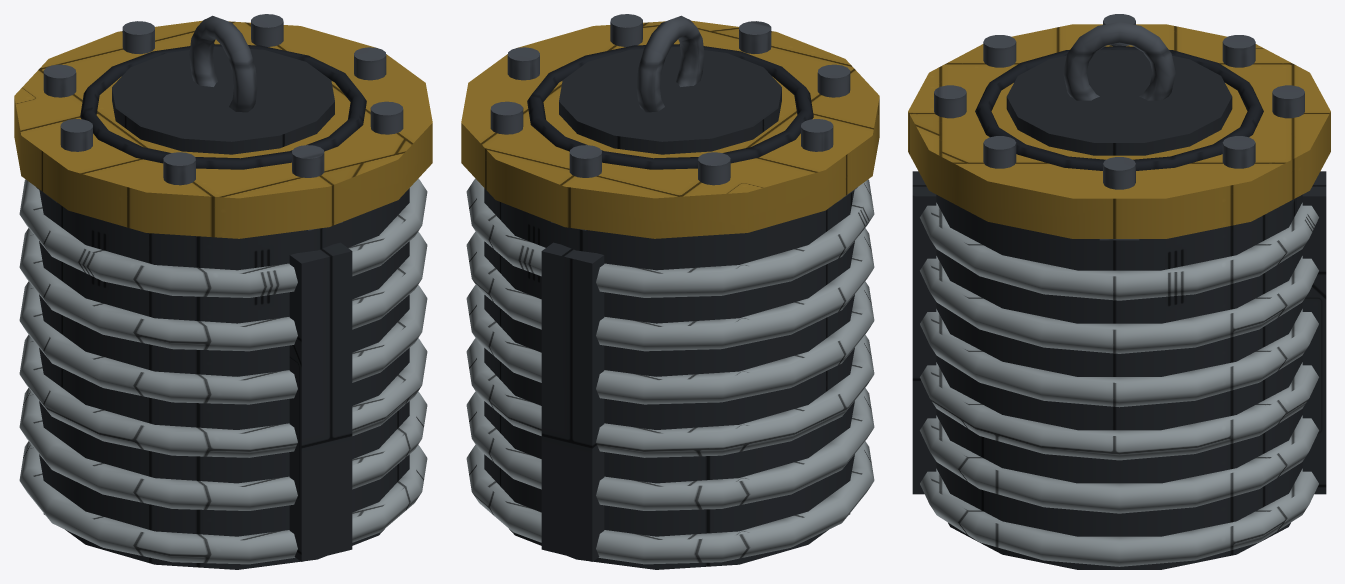
The model's file is cargo-inert-reactor-core-cask_lod1.glb.
The picture shows the model from 3 angles, left to right: view 1: azimuth 30°, elevation 25°; view 2: azimuth 150°, elevation 25°; view 3: azimuth 270°, elevation 25°; orthographic projection.
Visible parts, largest first — view 1: LOD1_Armor, LOD1_BrushedMetal, LOD1_Livery, LOD1_Mechanical, LOD1_MechanicalDark; view 2: LOD1_Armor, LOD1_BrushedMetal, LOD1_Livery, LOD1_Mechanical, LOD1_MechanicalDark; view 3: LOD1_Armor, LOD1_BrushedMetal, LOD1_Livery, LOD1_Mechanical, LOD1_MechanicalDark.
Part boxes in pixels (bbox=[...]): LOD1_Armor: bbox=[39, 46, 409, 569]; LOD1_BrushedMetal: bbox=[19, 178, 427, 564]; LOD1_Livery: bbox=[14, 20, 432, 238]; LOD1_Mechanical: bbox=[36, 14, 403, 230]; LOD1_MechanicalDark: bbox=[80, 44, 366, 169]; LOD1_Armor: bbox=[484, 46, 854, 569]; LOD1_BrushedMetal: bbox=[466, 178, 874, 564]; LOD1_Livery: bbox=[461, 20, 879, 238]; LOD1_Mechanical: bbox=[490, 14, 857, 230]; LOD1_MechanicalDark: bbox=[527, 44, 813, 169]; LOD1_Armor: bbox=[912, 50, 1326, 569]; LOD1_BrushedMetal: bbox=[920, 202, 1318, 566]; LOD1_Livery: bbox=[908, 24, 1330, 238]; LOD1_Mechanical: bbox=[934, 14, 1304, 240]; LOD1_MechanicalDark: bbox=[975, 45, 1263, 170].
Size of the model in its own units: 1.75 by 2.21 by 1.8.
Materials: 5 (5 with a texture image).
